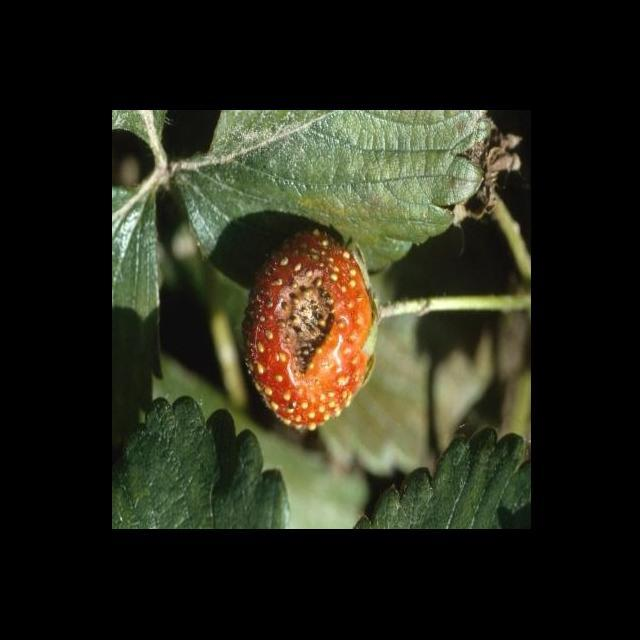Anthracnose Fruit Rot: (272, 257, 336, 391)
